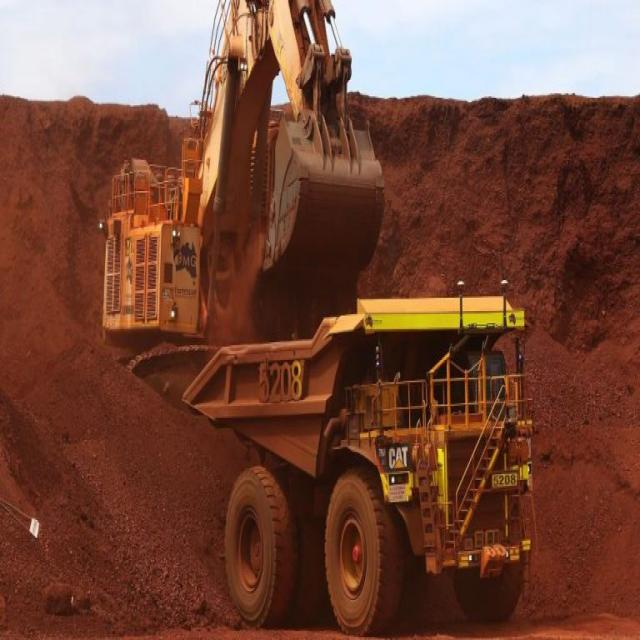dump_truck: (173, 277, 555, 636)
